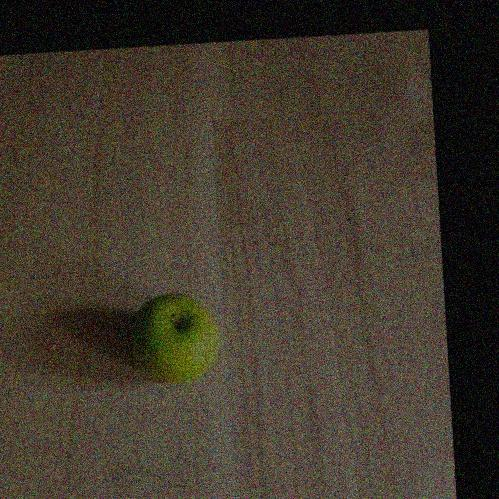green apple: (129, 287, 220, 381)
